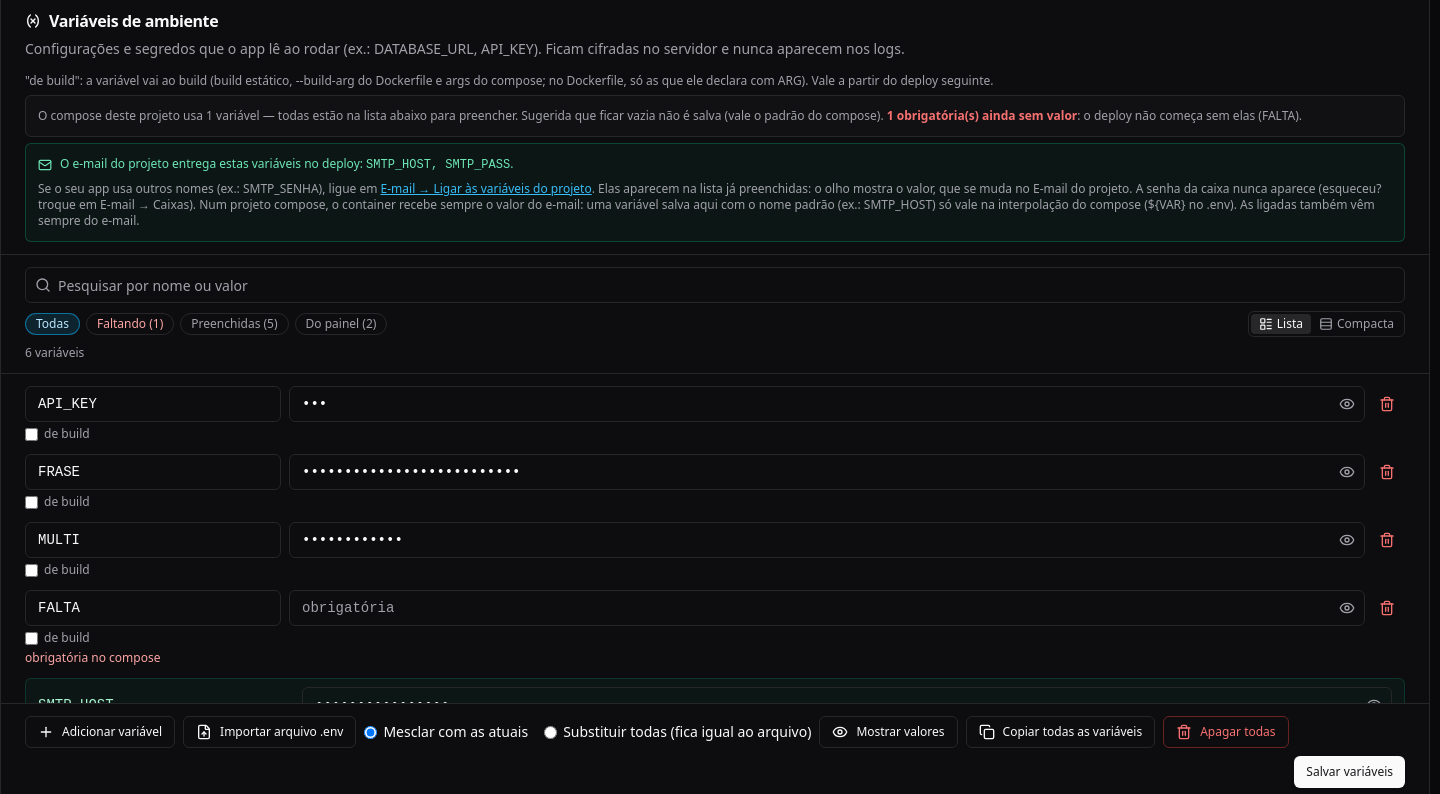
Test: Copiar todas as variáveis › nome inválido fica de fora, é avisado e não entra na contagem
Check: the password field showing "abc" is shown, box x1=289 y1=386 x2=1365 y2=422
Click the button "Adicionar variável" at (100, 732), box x1=25 y1=716 x2=175 y2=748
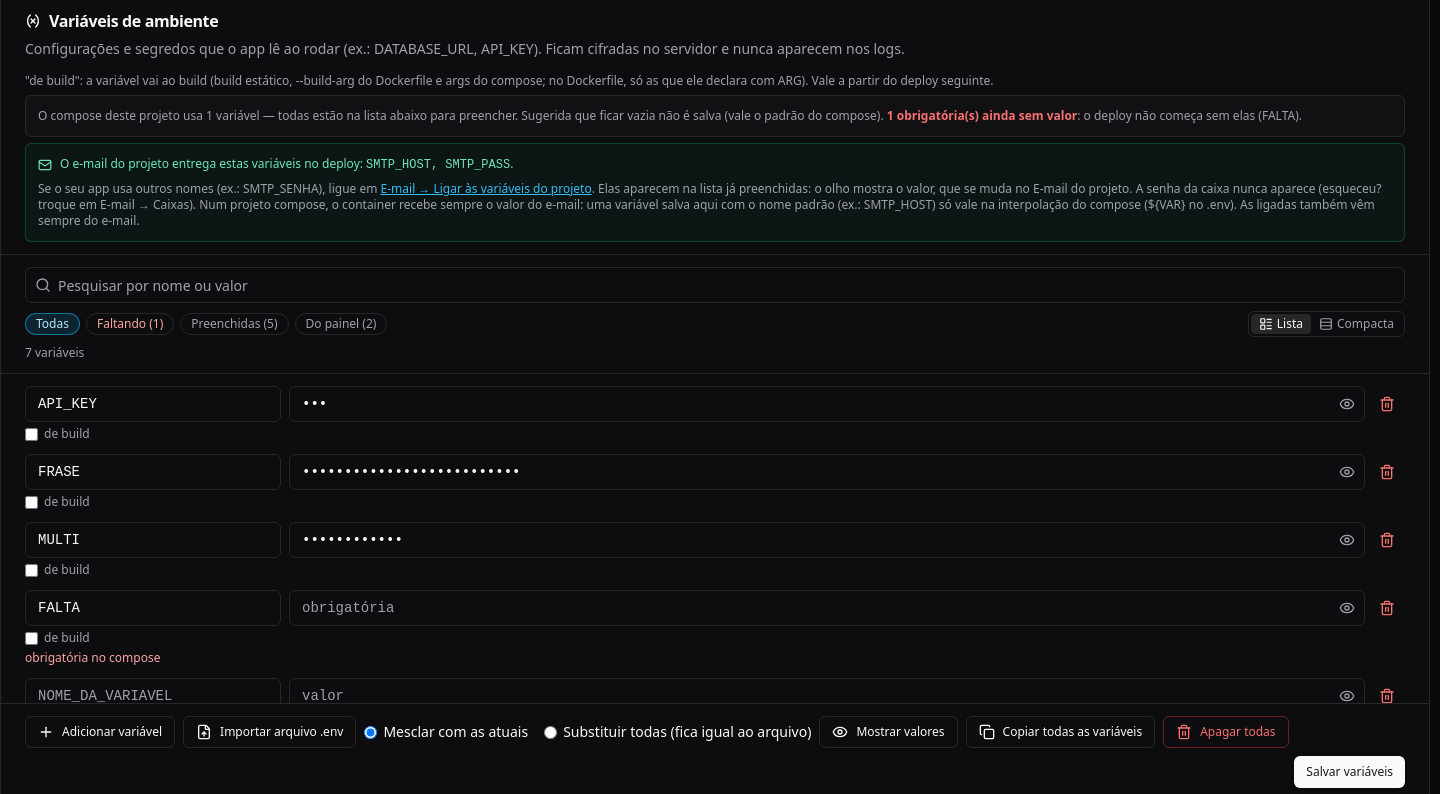
Type "MEU-NOME" into the field with placeholder "NOME_DA_VARIAVEL" at (153, 696), box x1=25 y1=678 x2=281 y2=714
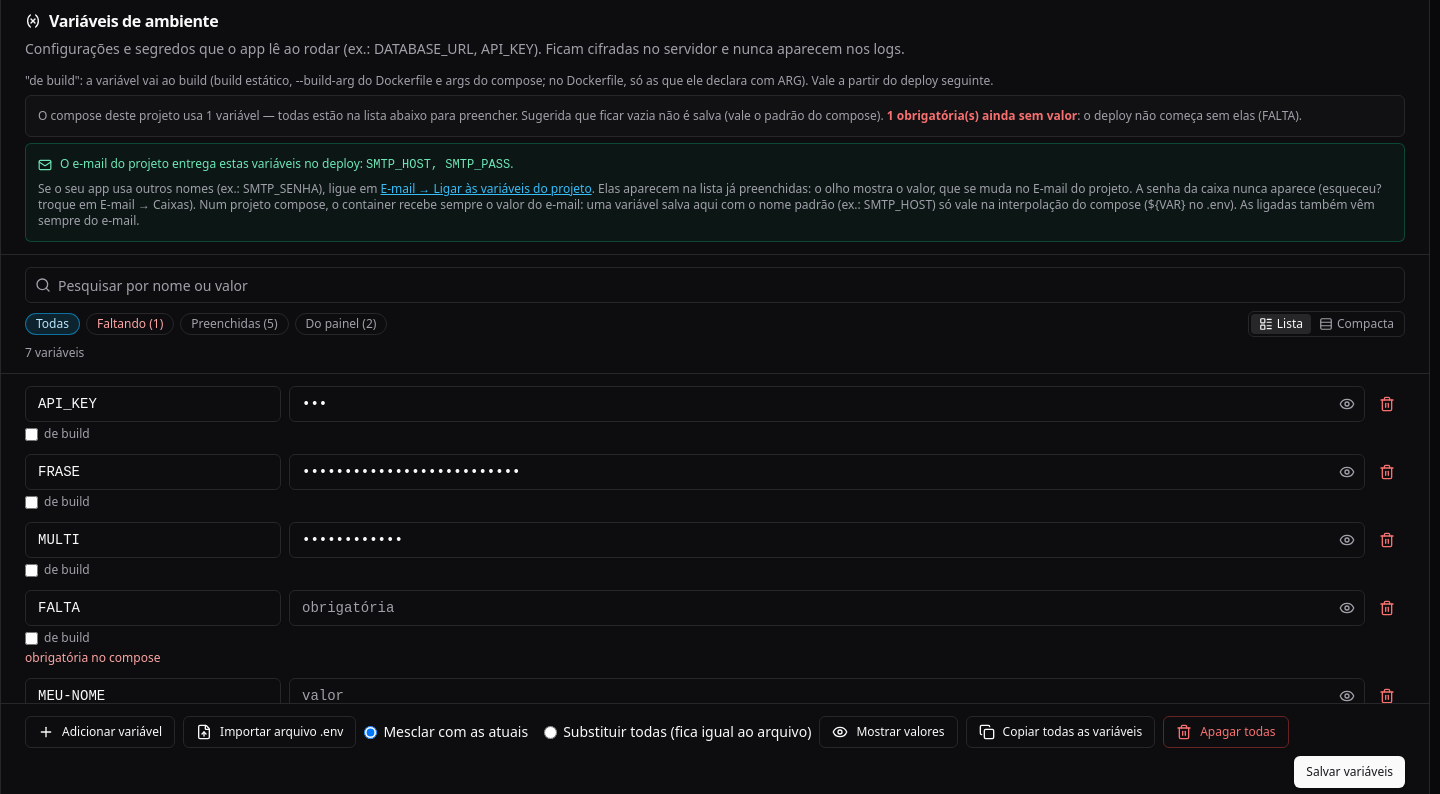
Click the button "Copiar todas as variáveis" at (1060, 732), box x1=966 y1=716 x2=1155 y2=748
(page scrolled)
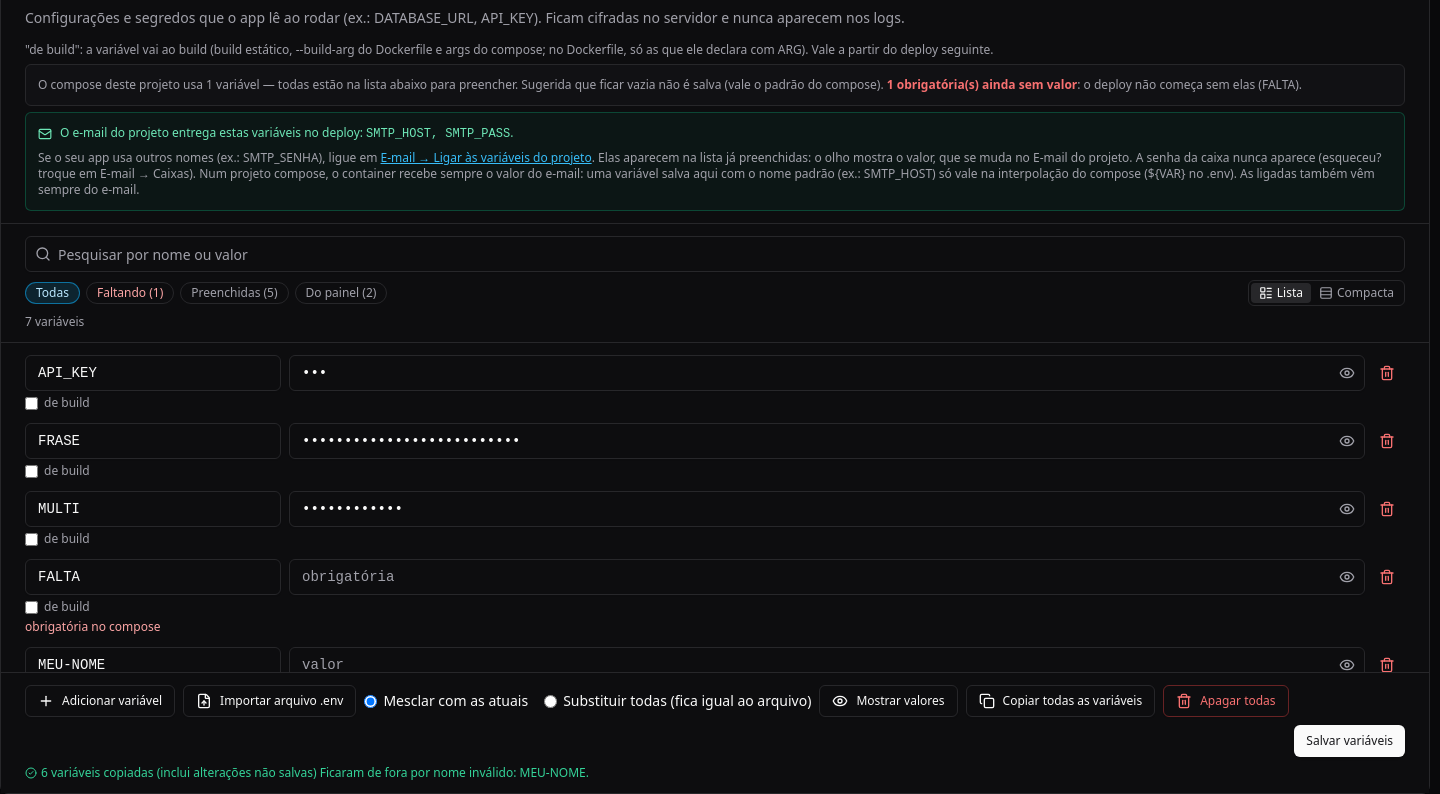
Check: the text "6 variáveis copiadas" is shown, box x1=41 y1=764 x2=589 y2=781
